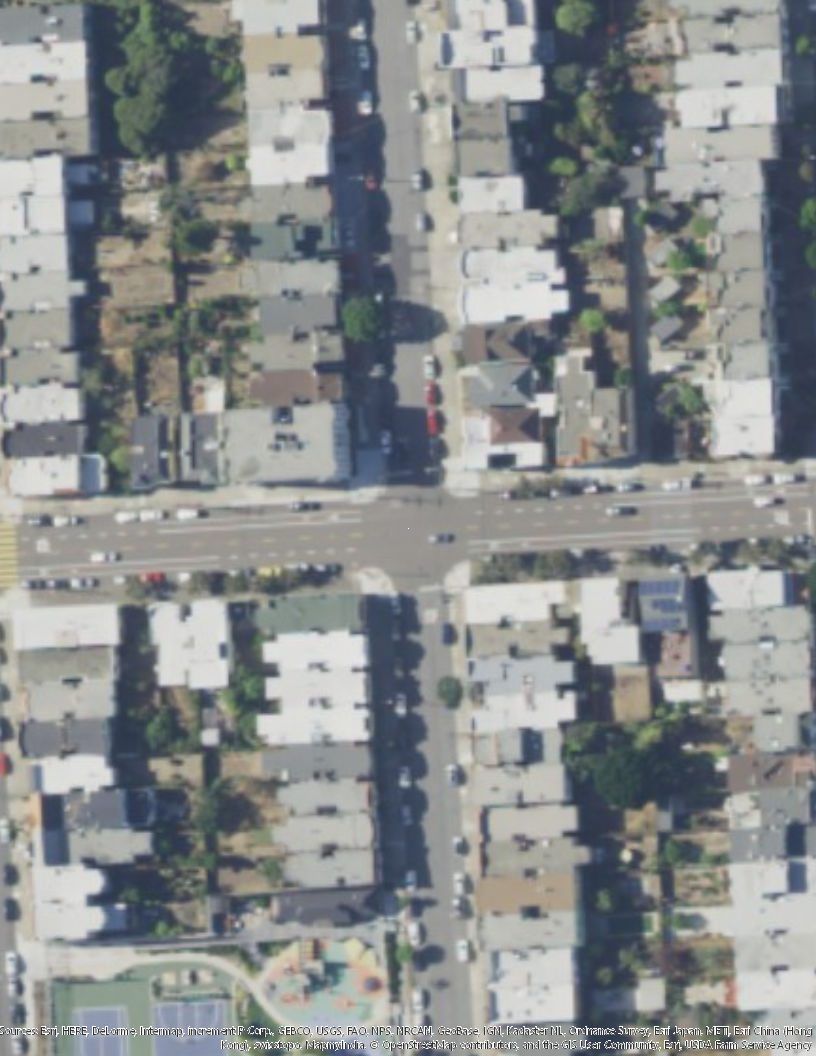zebracross: (1, 523, 20, 590)
